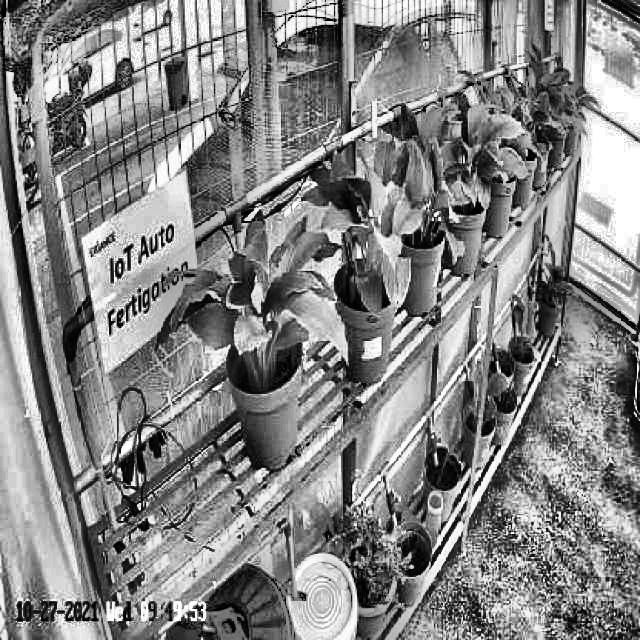plants: (154, 203, 350, 392), (300, 158, 412, 318), (375, 127, 463, 276), (420, 94, 528, 215)
